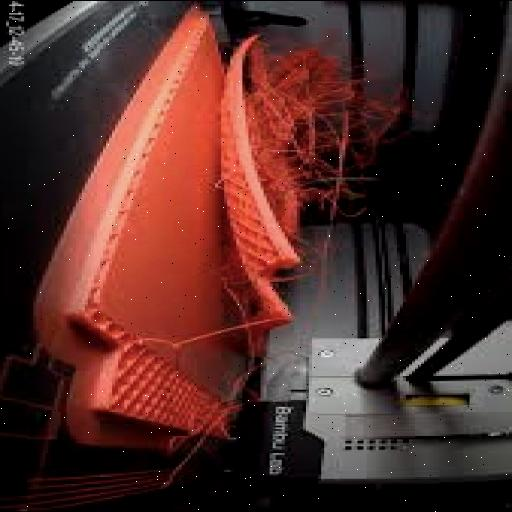spaghetti: (272, 44, 404, 274), (177, 368, 293, 448)
